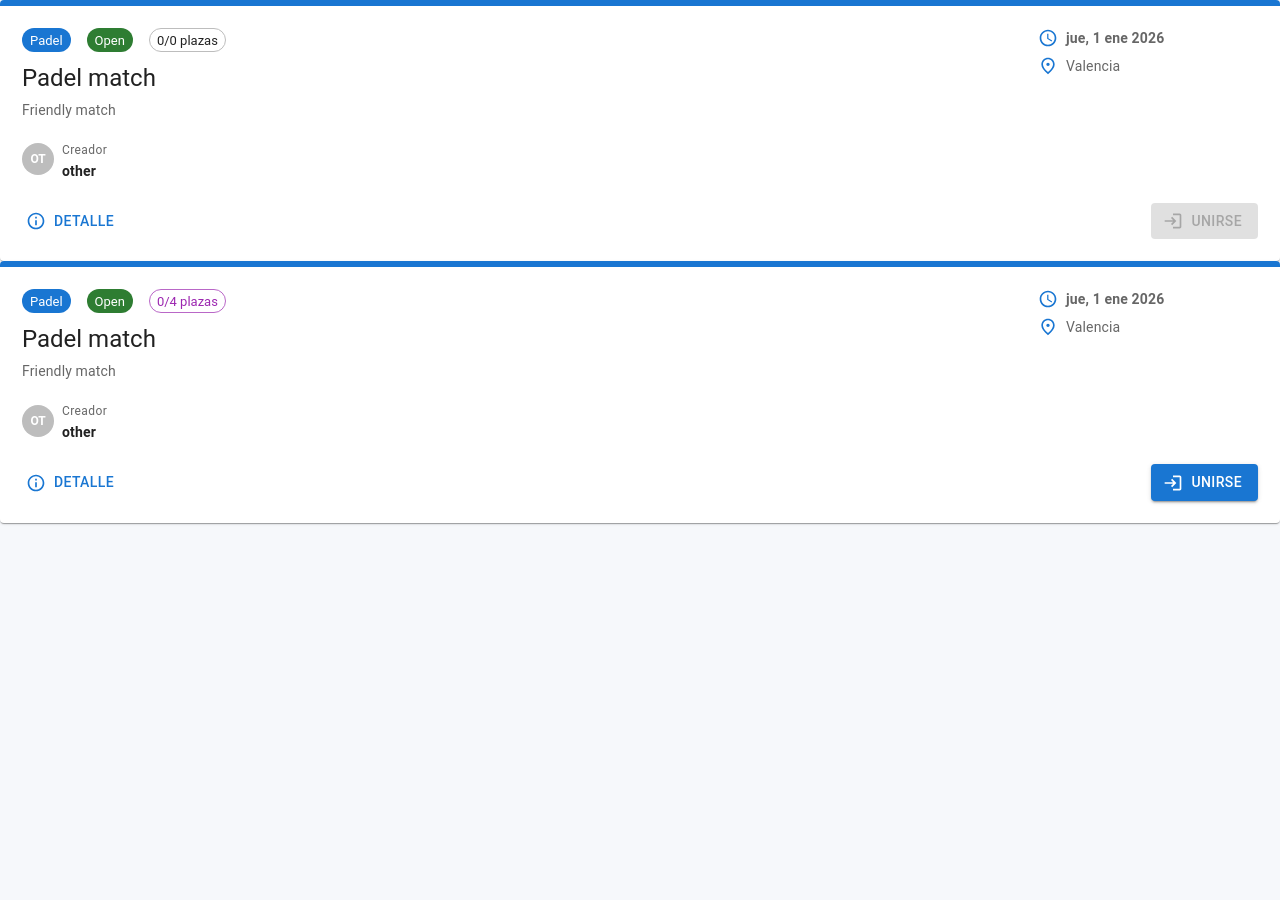
Test: CardEvent › shows join errors and disables full events
Check: the 1st button "Unirse" is disabled, box [1152,203,1258,240]
Step 1. Click the 2nd button "Unirse" → (1205, 483), box [1152,464,1258,501]
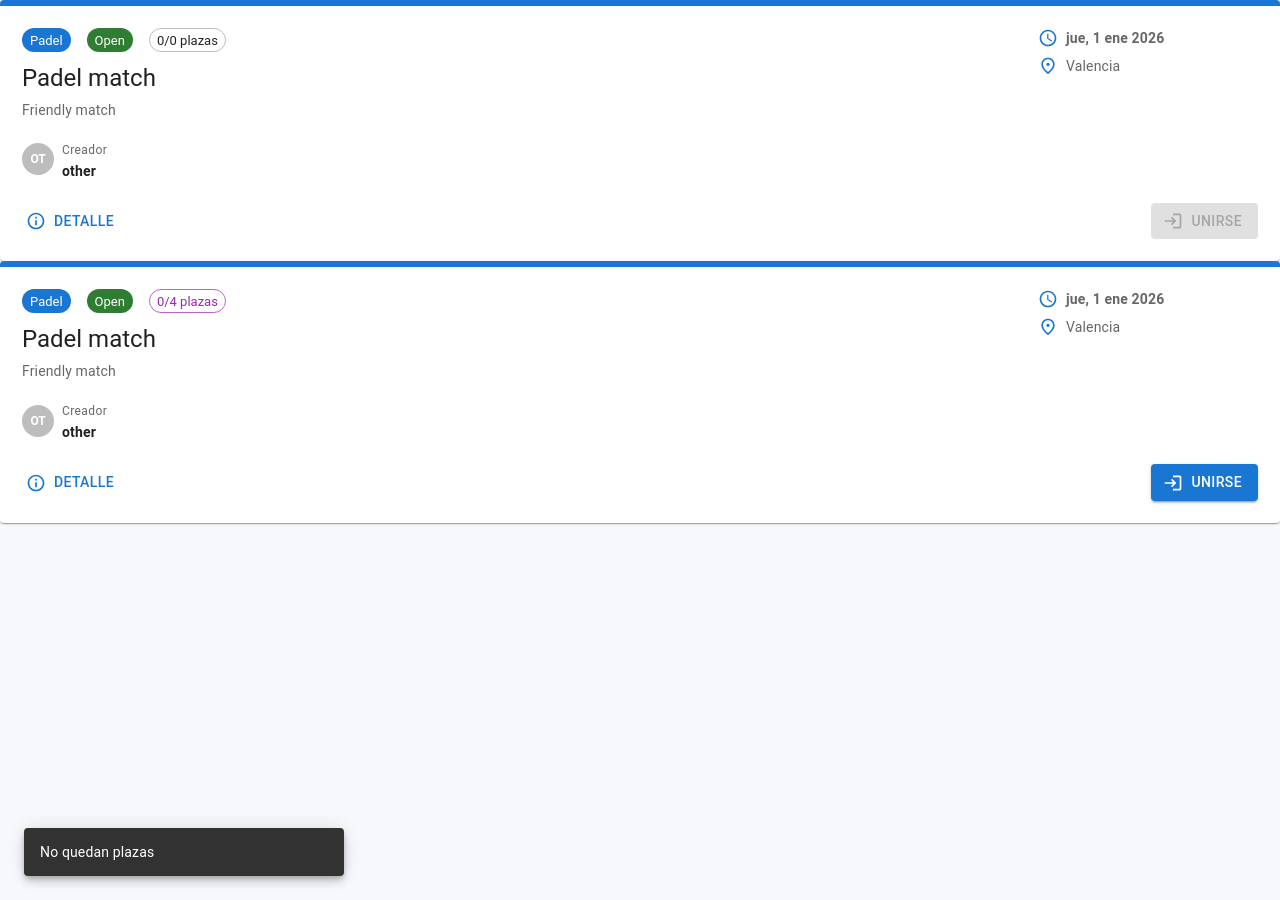
Check: the text "No quedan plazas" is shown, box [40,844,154,860]
